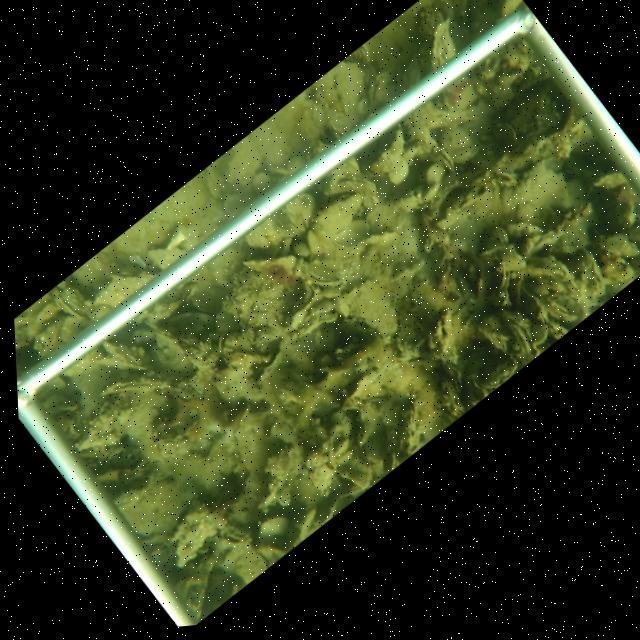Oyster-Closed: (91, 269, 158, 307), (101, 377, 176, 398), (303, 261, 344, 288), (57, 286, 86, 318)
Oyster-Indeterminate: (346, 277, 402, 341), (430, 16, 458, 72)
